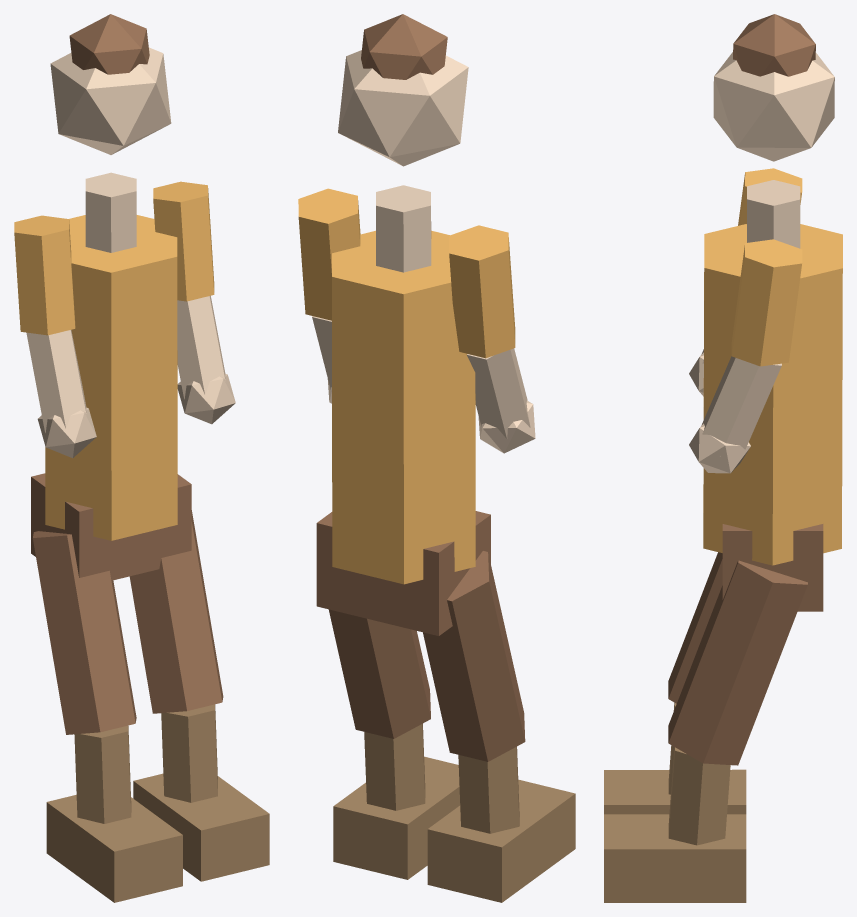
File: pose_hit_light_23.glb
The picture shows the model from 3 angles, left to right: view 1: azimuth 30°, elevation 25°; view 2: azimuth 150°, elevation 25°; view 3: azimuth 270°, elevation 25°; orthographic projection. The views are drawn at different scales.
Visible parts, largest first — view 1: pose; view 2: pose; view 3: pose.
Part boxes in pixels (x1,y1,x2,y2): pose: (14, 14, 269, 902); pose: (298, 14, 575, 902); pose: (604, 14, 842, 902).
Bounding box in the file's own units: 0.3955 × 1.58 × 0.4028.
